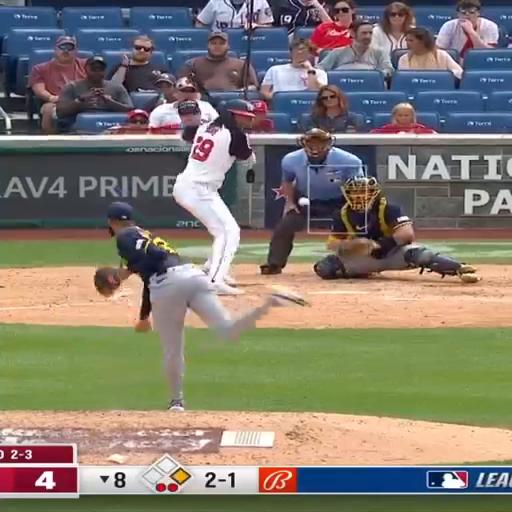bat: (189, 69, 227, 116)
